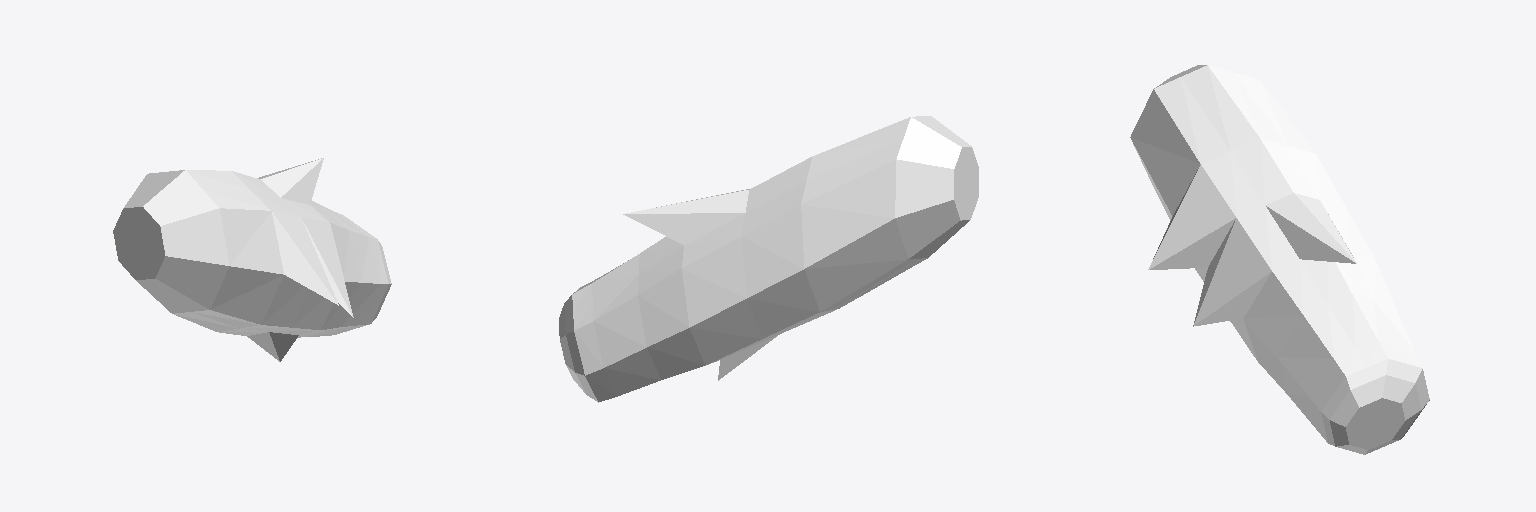
Rendered from UpArmR.obj.
3 views of the same model, side by side, from view 1: azimuth 30°, elevation 25°; view 2: azimuth 150°, elevation 25°; view 3: azimuth 270°, elevation 25° (orthographic).
Visible parts, largest first — view 1: Upperarmr1; view 2: Upperarmr1; view 3: Upperarmr1.
Boxes of the visible parts, x1,y1,x2,y2 form: Upperarmr1: [113, 158, 391, 361]; Upperarmr1: [559, 116, 978, 402]; Upperarmr1: [1130, 65, 1429, 454].
Bounding box in the file's own units: 2.94 × 2.36 × 2.31.